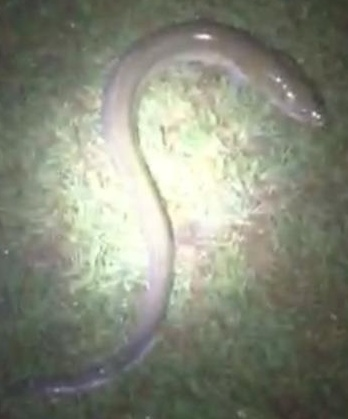Anguilla anguilla: (20, 20, 328, 399)
